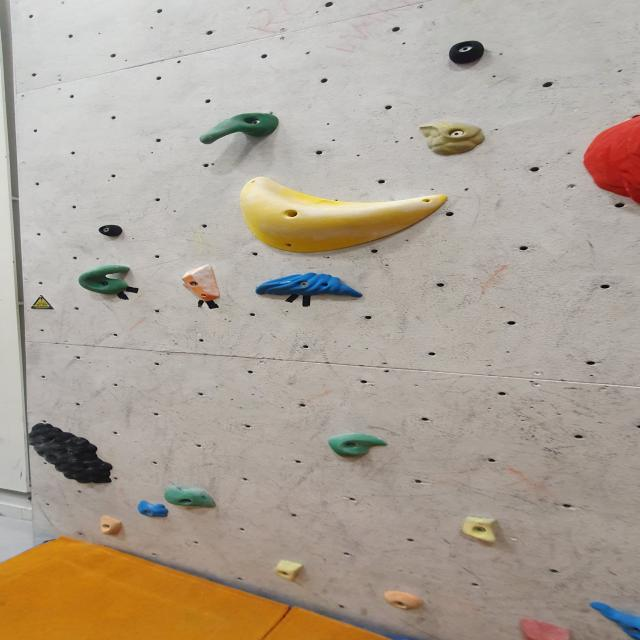Crimp: (254, 269, 368, 302), (409, 119, 494, 156), (508, 614, 589, 640), (459, 513, 508, 545), (268, 556, 317, 579), (382, 588, 428, 610), (133, 498, 168, 520), (95, 514, 126, 536)
Jug: (200, 108, 281, 148), (76, 265, 136, 298), (326, 434, 392, 460), (162, 486, 219, 509)
Pinch: (182, 264, 222, 303), (446, 36, 493, 66), (93, 221, 123, 242)
Sloper: (240, 152, 457, 258), (19, 421, 118, 486)
